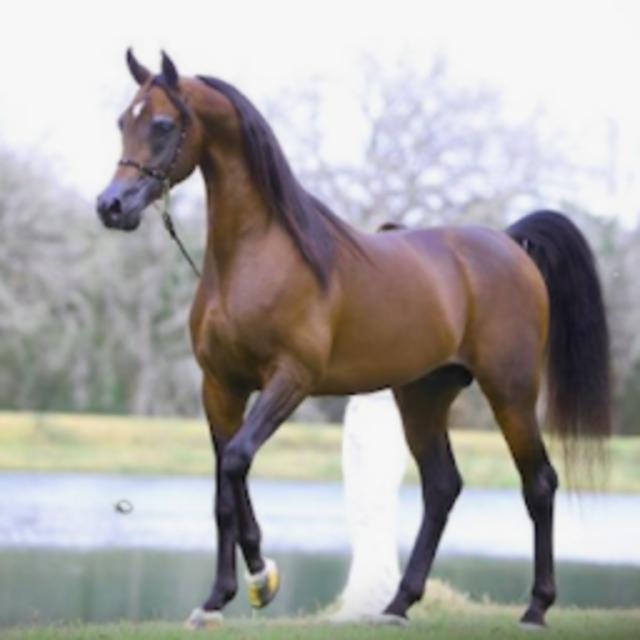Horse: (92, 42, 622, 636)
